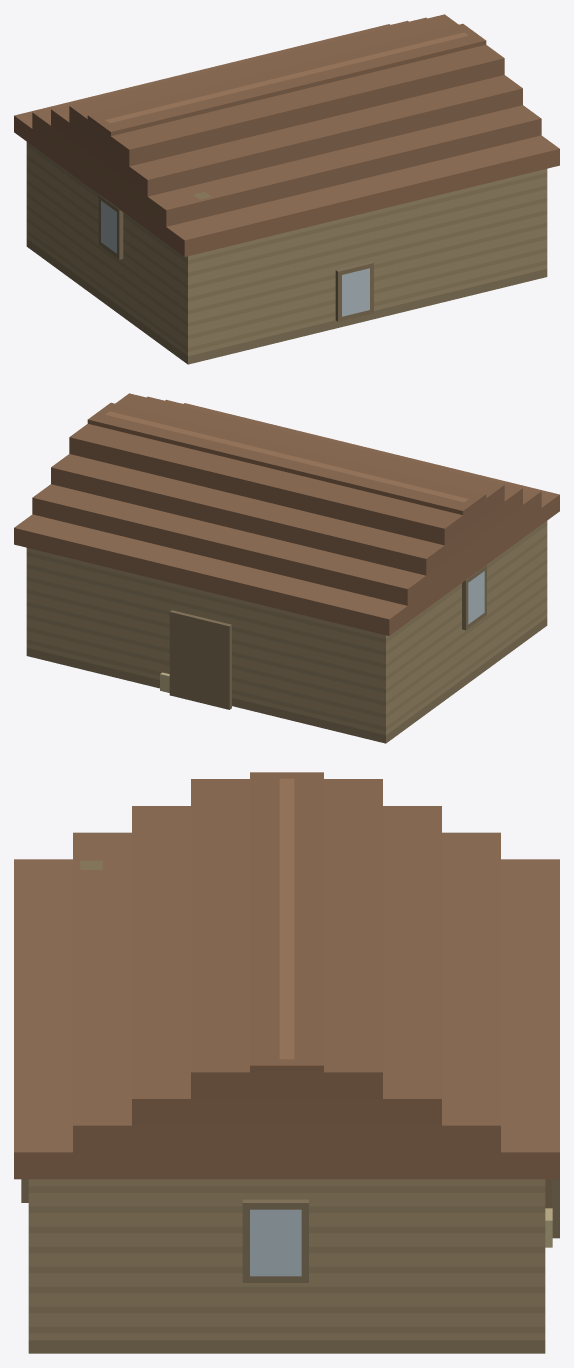
The model's file is molino_comunal_03.glb.
3 renders of one model, top to bottom at view 1: azimuth 30°, elevation 25°; view 2: azimuth 150°, elevation 25°; view 3: azimuth 270°, elevation 25°, orthographic. The views are drawn at different scales.
Visible parts, largest first — view 1: molino_comunal_03; view 2: molino_comunal_03; view 3: molino_comunal_03.
Boxes of the visible parts, left/top/right/bottom form: molino_comunal_03: left=14, top=14, right=559, bottom=364; molino_comunal_03: left=14, top=393, right=559, bottom=743; molino_comunal_03: left=14, top=772, right=559, bottom=1353.
Size of the model in its own units: 9.4 by 4.4 by 7.4.
